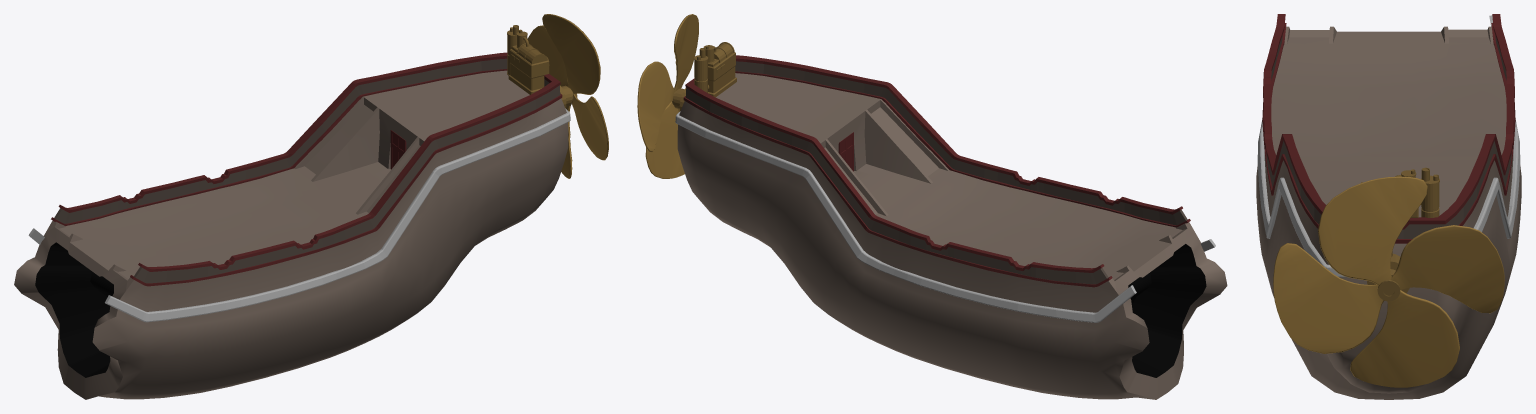
Rendered from Broken_Ship_4.fbx.
3 renders of one model, left to right at view 1: azimuth 30°, elevation 25°; view 2: azimuth 150°, elevation 25°; view 3: azimuth 270°, elevation 25°, orthographic. The views are drawn at different scales.
Visible parts, largest first — view 1: Broken_Ship_4; view 2: Broken_Ship_4; view 3: Broken_Ship_4.
Boxes of the visible parts, x1,y1,x2,y2 form: Broken_Ship_4: [14, 14, 608, 399]; Broken_Ship_4: [637, 14, 1227, 399]; Broken_Ship_4: [1256, 14, 1521, 399].
Size of the model in its own units: 13.46 by 6.68 by 4.38.
